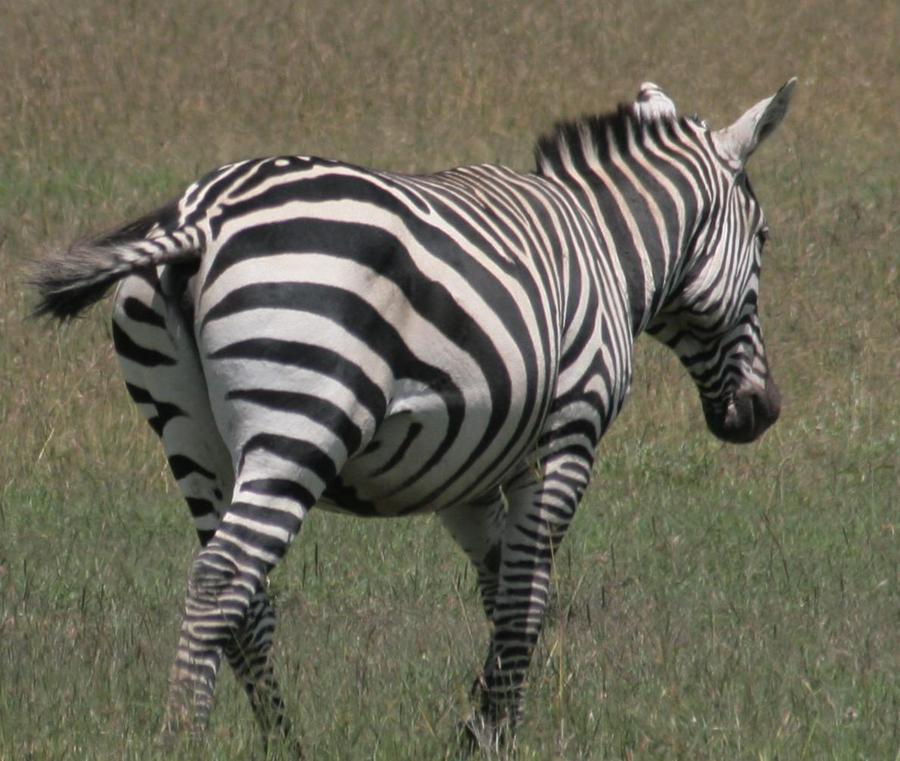zebra_plains: (187, 107, 684, 548)
